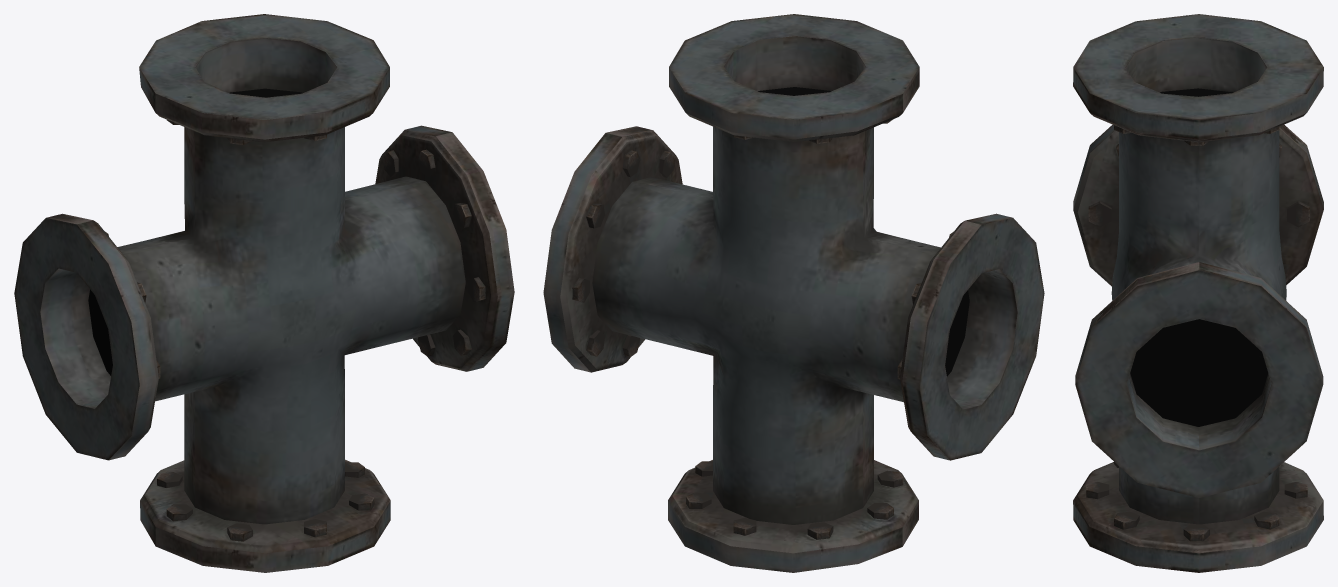
The model's file is pipe07.gltf.
The picture shows the model from 3 angles, left to right: view 1: azimuth 30°, elevation 25°; view 2: azimuth 150°, elevation 25°; view 3: azimuth 270°, elevation 25°; orthographic projection.
Visible parts, largest first — view 1: pipe07; view 2: pipe07; view 3: pipe07.
Part boxes in pixels (x1,y1,x2,y2): pipe07: [14, 14, 514, 572]; pipe07: [543, 14, 1044, 572]; pipe07: [1073, 14, 1323, 572].
Size of the model in its own units: 0.3568 by 0.4111 by 0.2064.
1 material, 1 textured.
